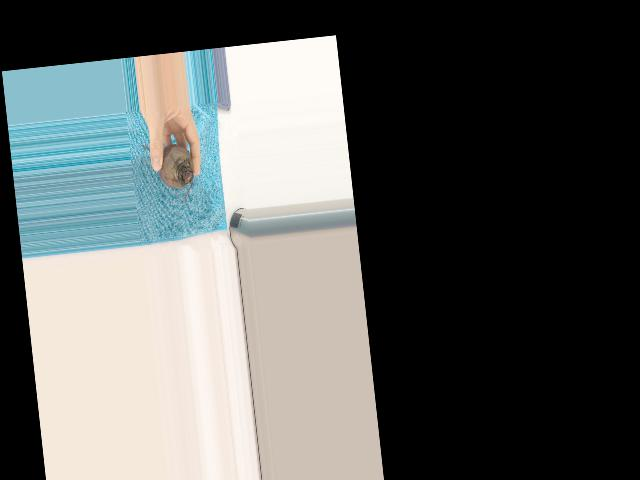beet: (140, 140, 196, 206)
